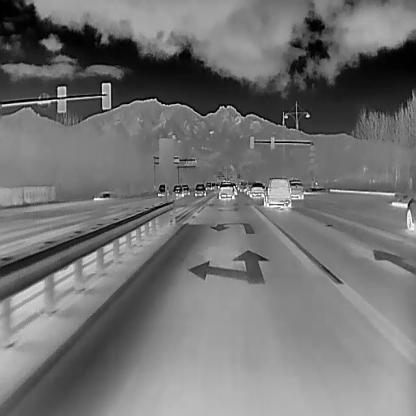car: (263, 177, 291, 208), (217, 179, 234, 200), (288, 179, 304, 199), (249, 182, 263, 198), (171, 185, 183, 198), (194, 183, 206, 196), (157, 183, 168, 196), (239, 181, 249, 192), (231, 183, 238, 196), (181, 184, 189, 195), (205, 181, 212, 190)
